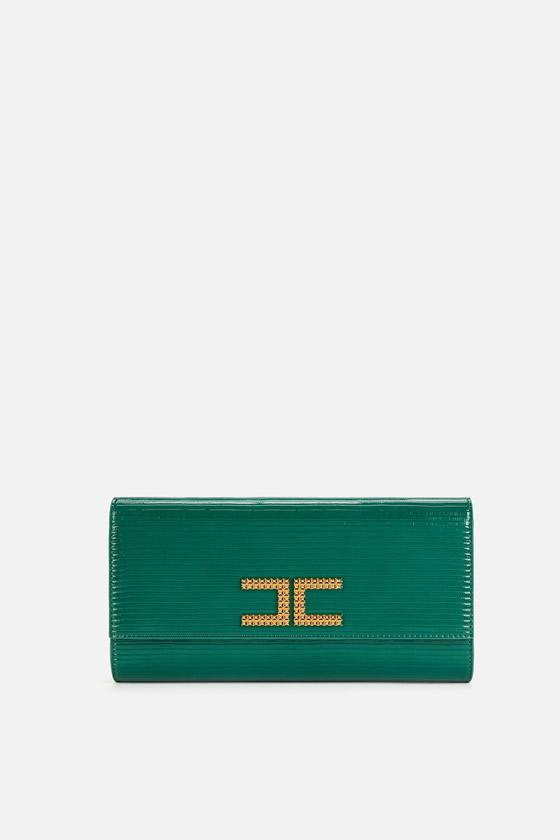ELISABETTA-FRANCHI: (224, 565, 354, 640)
